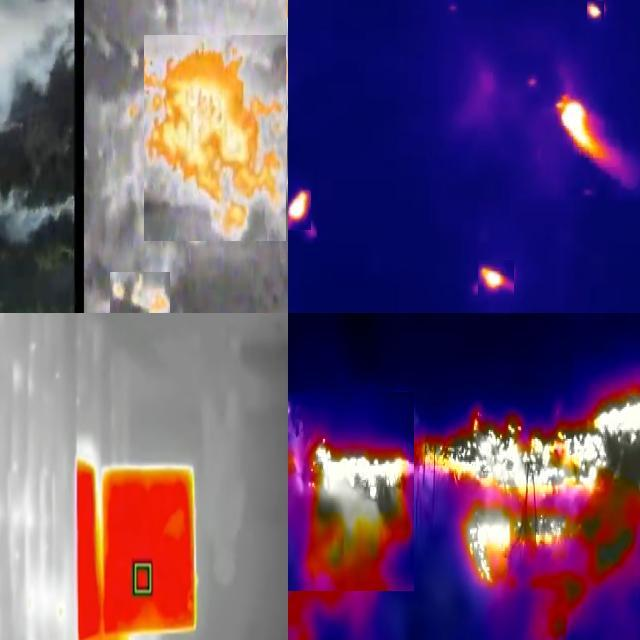fire: (419, 391, 640, 595), (145, 36, 287, 242), (289, 393, 415, 592), (554, 87, 606, 161), (111, 273, 171, 314), (480, 261, 516, 301), (289, 186, 312, 231), (588, 2, 605, 32)
